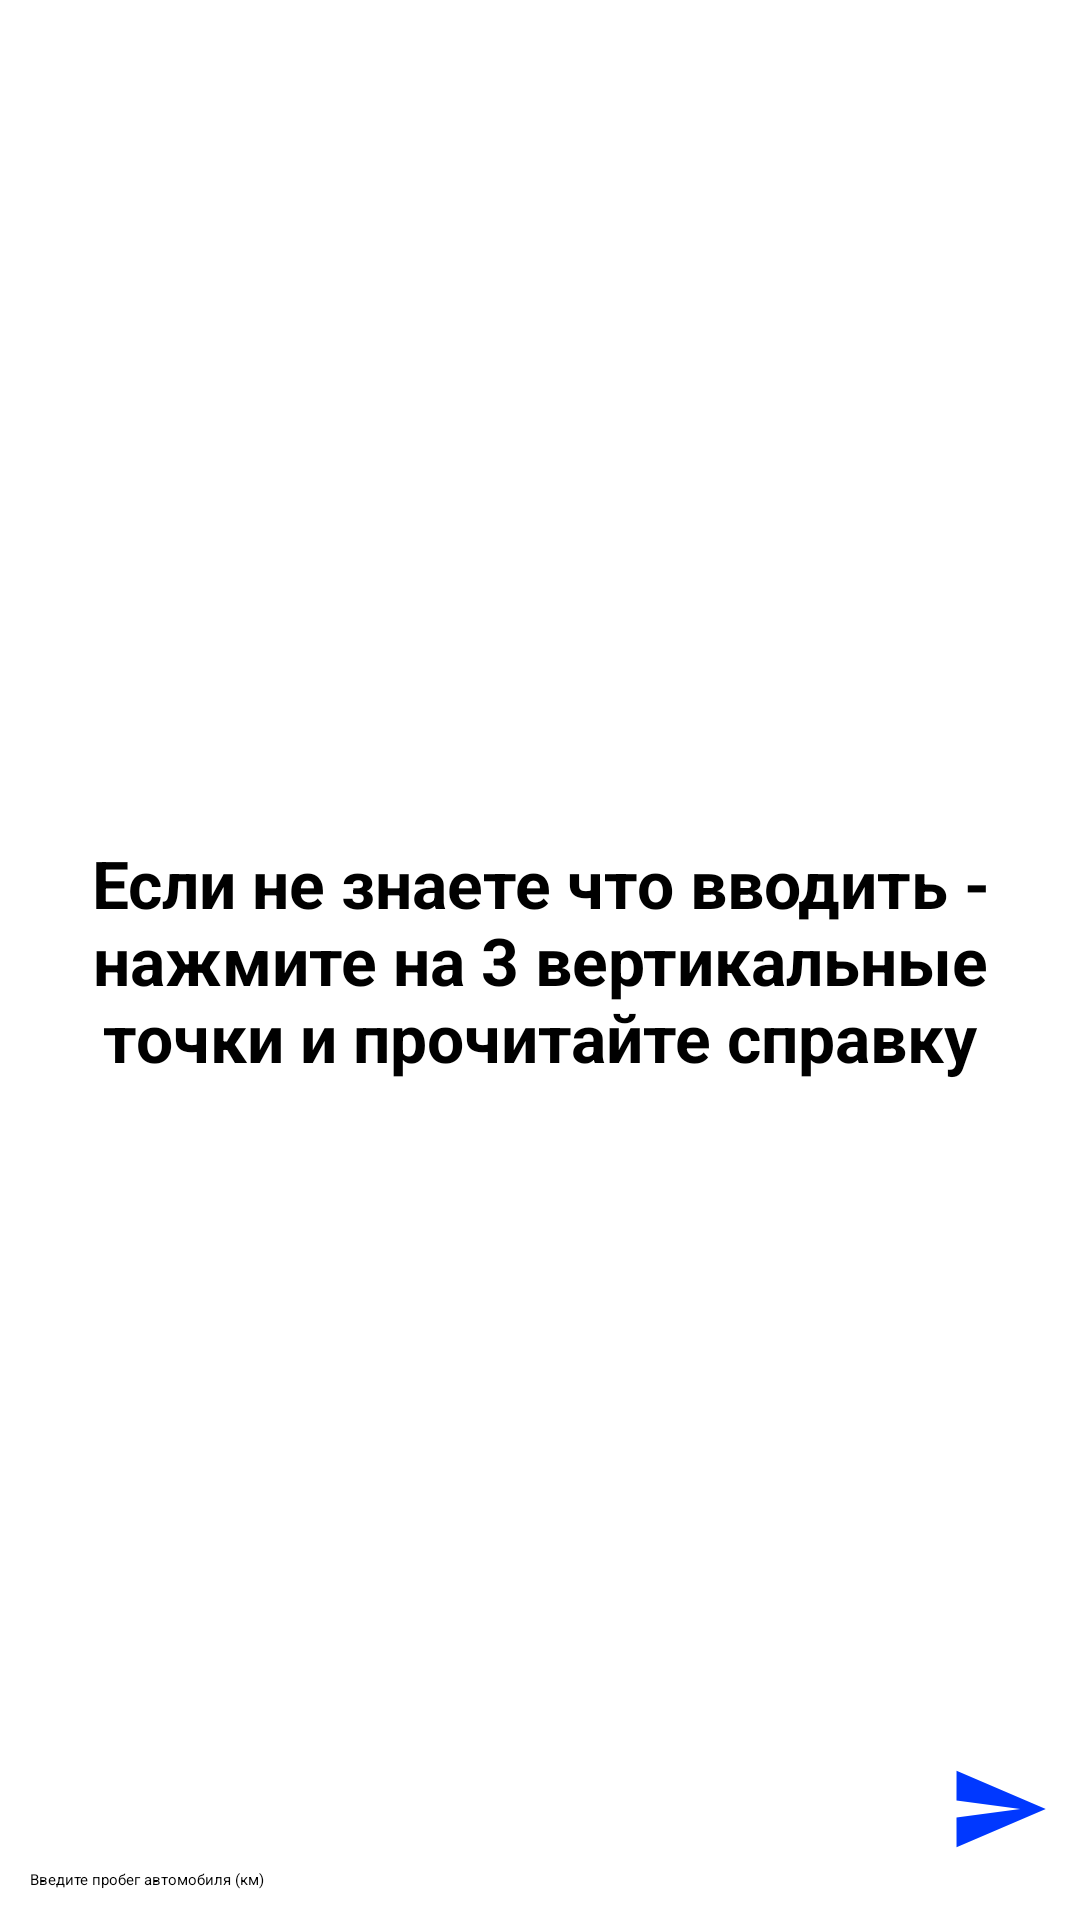

Named icons in this screenshot (1080 × 1920) and their centers, point (x, y):
send: point (1001, 1809)
